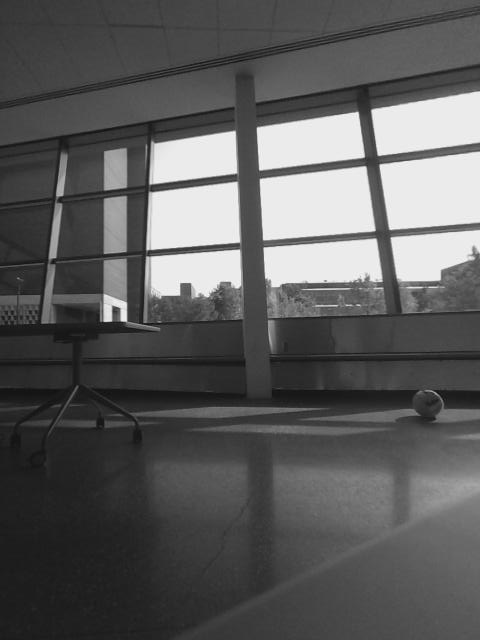ball: (416, 389, 447, 421)
